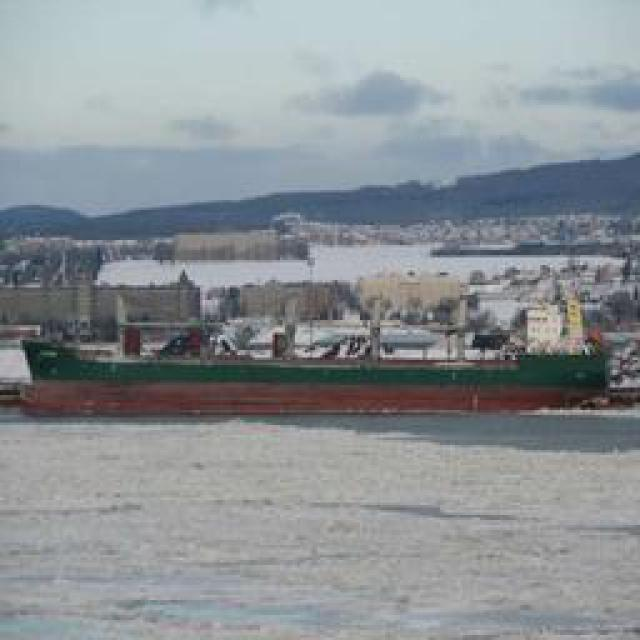Ship: (10, 344, 610, 414)
